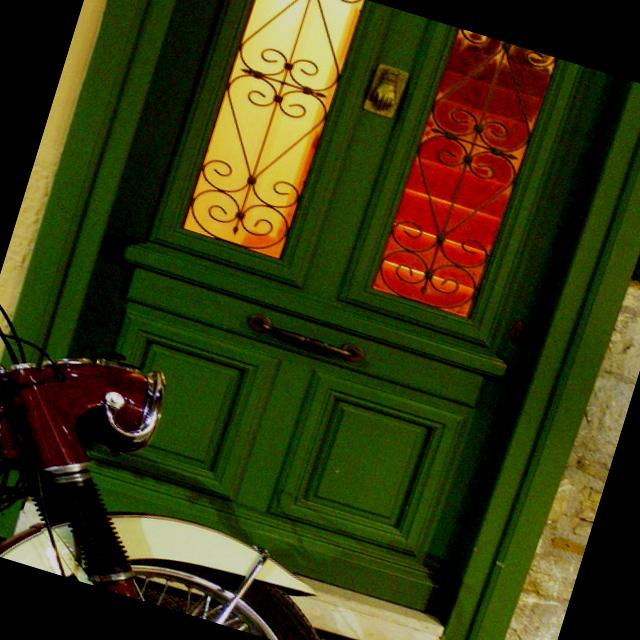Vehicle: (0, 266, 411, 640)
